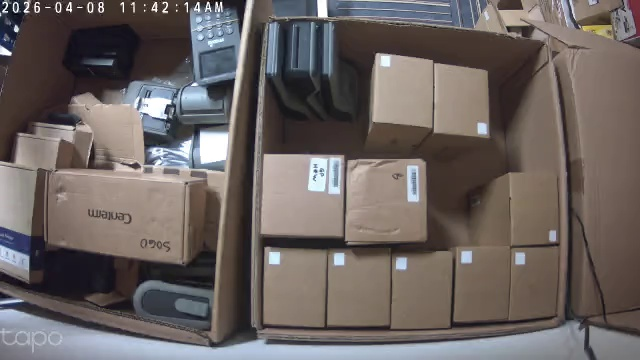box: (259, 152, 345, 238), (344, 157, 427, 244), (363, 51, 433, 153), (466, 170, 559, 246), (261, 245, 327, 328), (326, 247, 391, 328), (390, 249, 453, 329), (450, 245, 510, 325), (432, 61, 490, 139), (508, 245, 559, 322)
